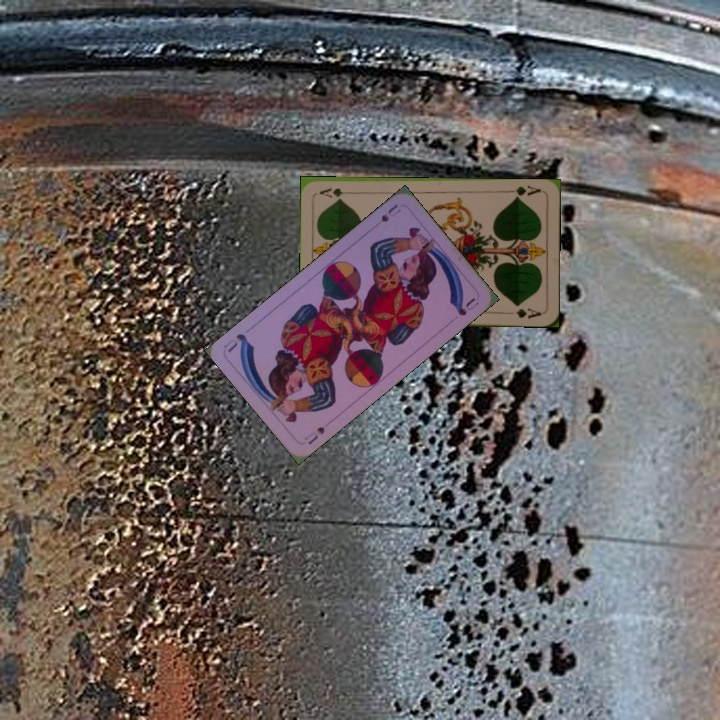GA: (504, 182, 543, 201)
SU: (377, 200, 404, 225), (300, 422, 327, 447)
